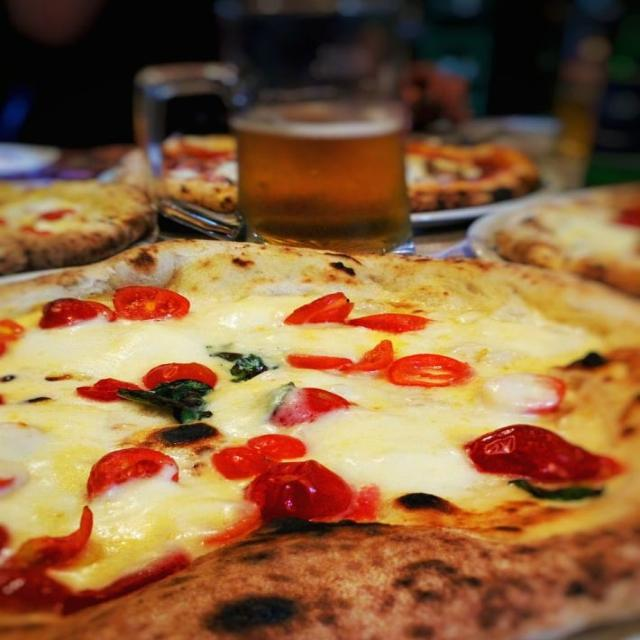basil: (117, 378, 220, 424), (205, 342, 282, 384), (506, 476, 605, 506), (254, 380, 298, 418)
pizza: (0, 240, 639, 640)
tomatoes: (462, 424, 630, 487), (234, 460, 378, 520), (6, 502, 102, 571), (83, 447, 186, 500), (279, 337, 399, 373), (212, 434, 308, 479), (273, 379, 357, 428), (384, 346, 476, 389), (108, 284, 200, 322), (34, 294, 116, 332), (275, 289, 356, 326), (347, 304, 431, 334), (137, 360, 221, 390), (70, 372, 138, 404), (524, 372, 570, 414), (0, 312, 34, 355)
